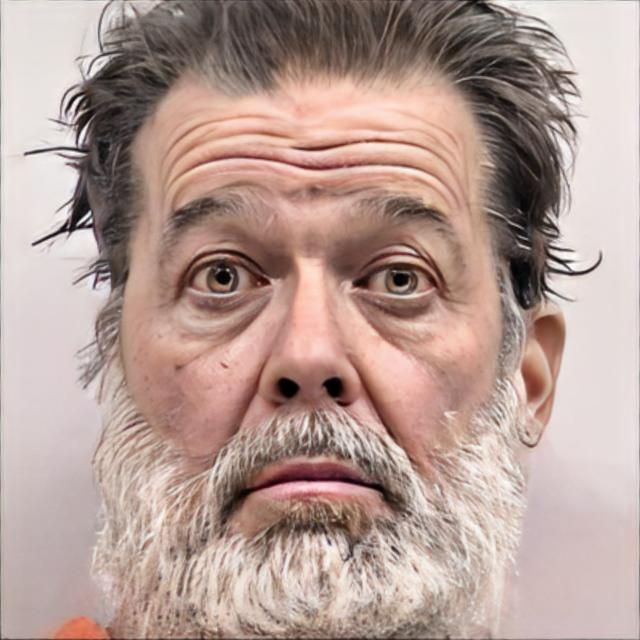fear: (120, 74, 510, 640)
